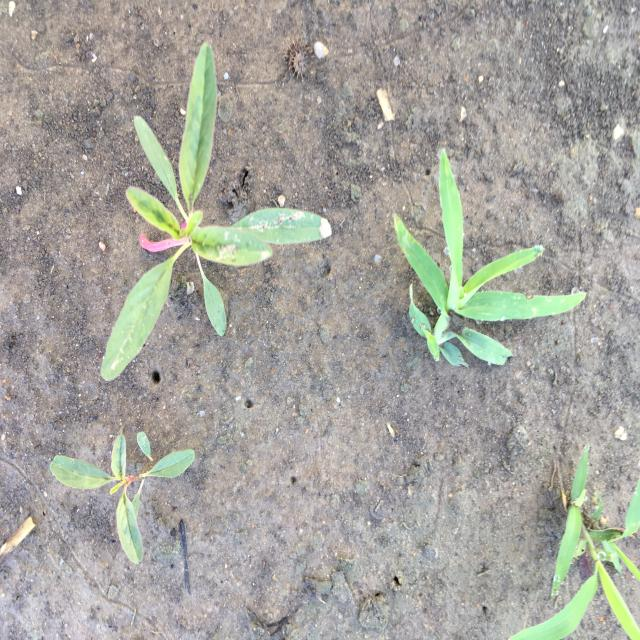Goosegrass: (392, 144, 590, 372)
Waterhemp: (99, 43, 334, 384), (49, 430, 198, 568)
